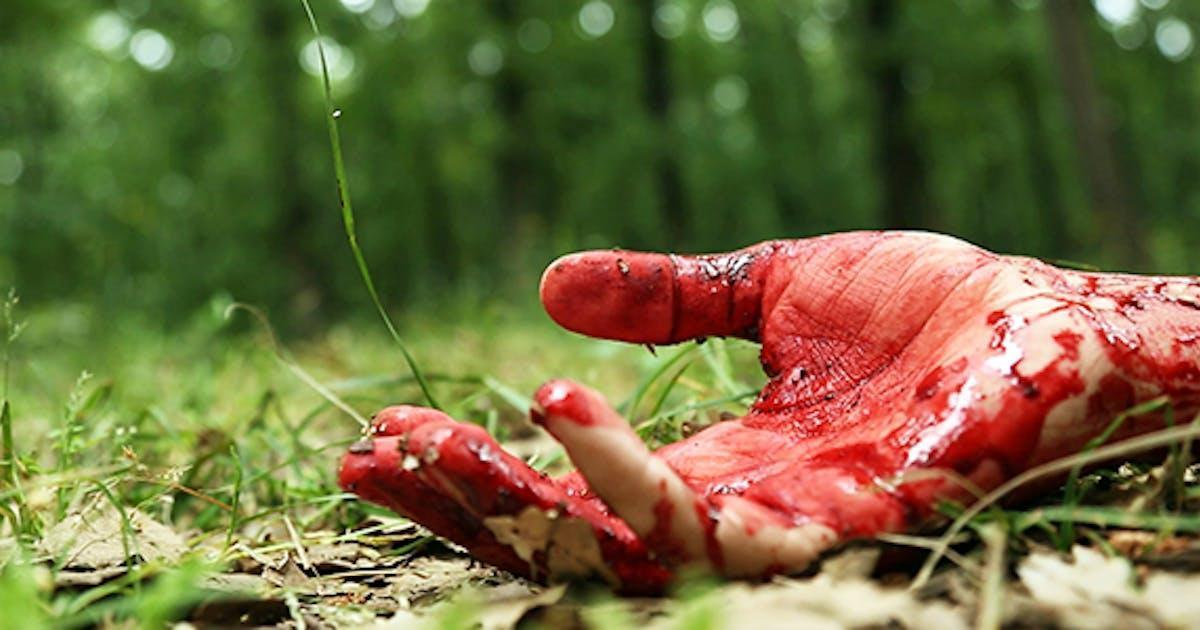Fire: (339, 231, 1200, 594)
